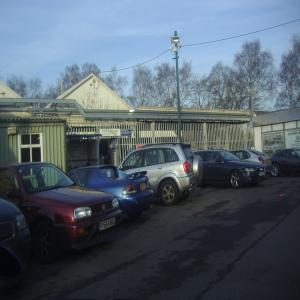Vehicle-registration-plate: (98, 218, 116, 233), (141, 183, 148, 192), (260, 172, 266, 178)
